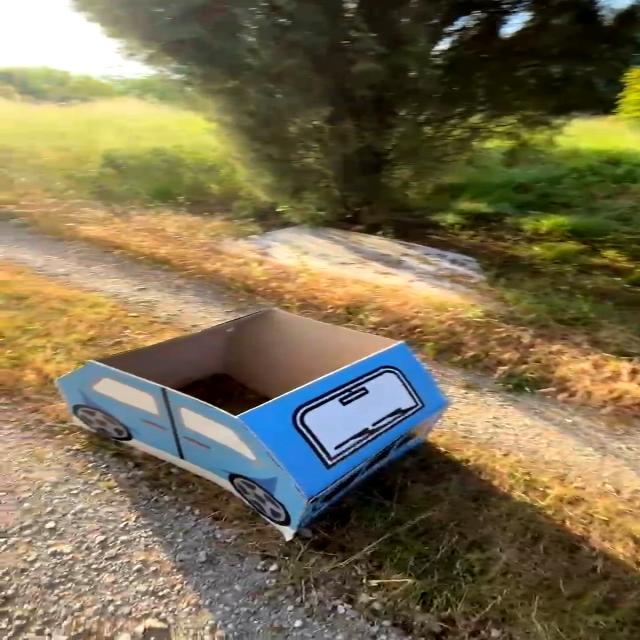blue_car: (12, 278, 484, 570)
